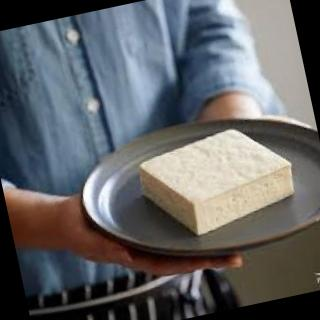Tahu: (123, 115, 308, 248)
